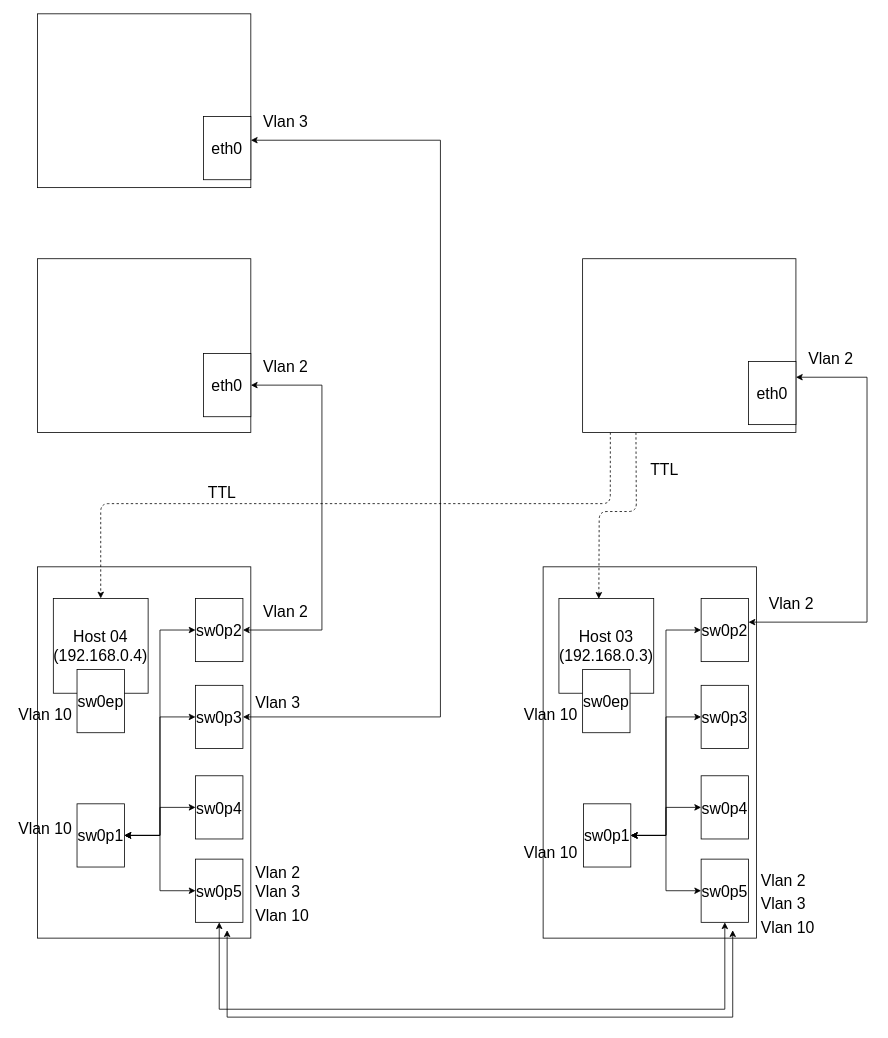
Some shapes in this 888 by 1038 pixel diagram are drawn without their labels. Each missing label, with the box of its shape:
Desktop Chuanyu (192.168.0.10): (582, 258, 796, 433)
Raspberry Pi Jiachen (192.168.0.13): (37, 13, 251, 188)
Raspberry Pi Zelin (192.168.0.12): (37, 258, 251, 433)
